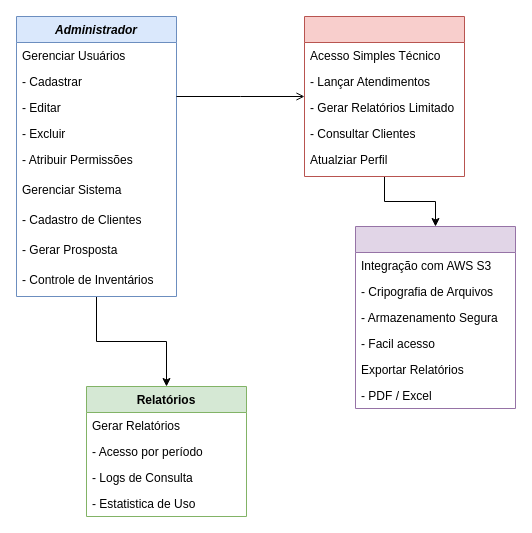
The diagram is 532 pixels wide and 533 high, and some of its shapes have lost their labels. Here are the shapes that lost their labels. From the top down, the box of each, then its label:
(304, 16, 464, 176): Usuários
(354, 226, 516, 408): Sistema
